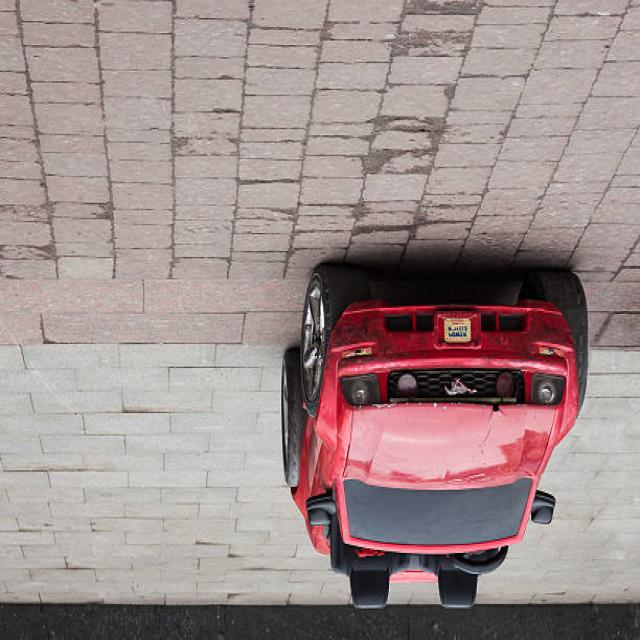Car: (279, 263, 589, 611)
